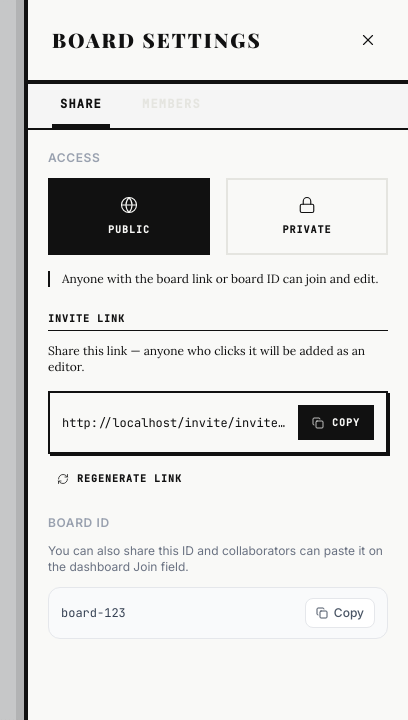
Test: BoardSettingsPanel › shows access requests section for owners on Members tab
Click the button "Members" at [171, 106], box top-left (134, 84), bottom-right (209, 128)
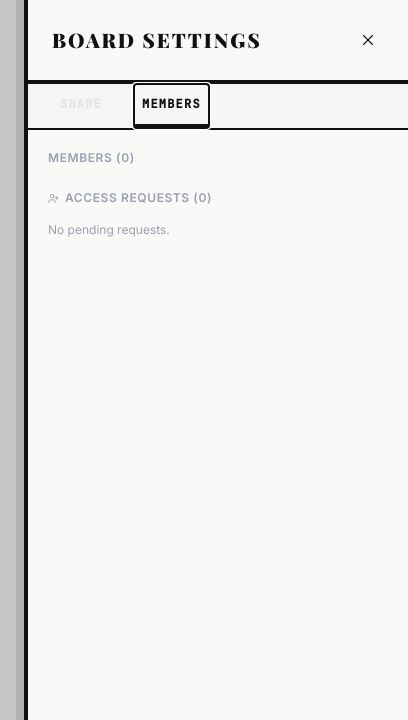
Expected: the text "No pending requests." is shown, top-left (48, 222), bottom-right (170, 237)
